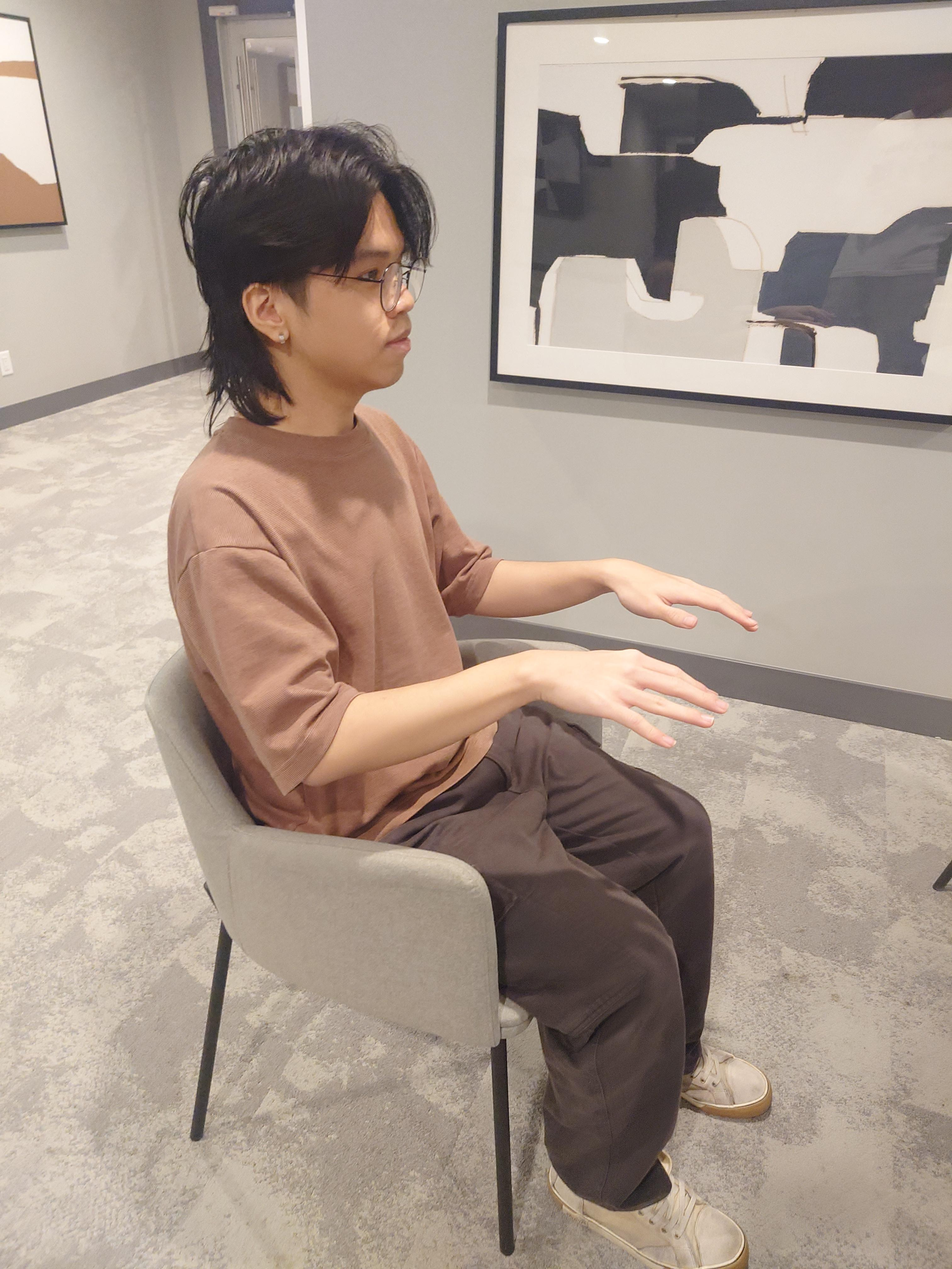GoodPosture: (163, 126, 774, 1269)
